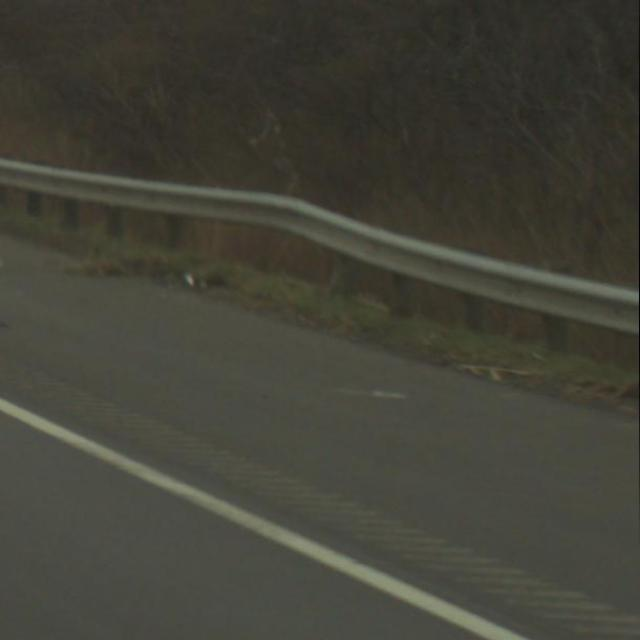Guard rail: (0, 159, 640, 367)
